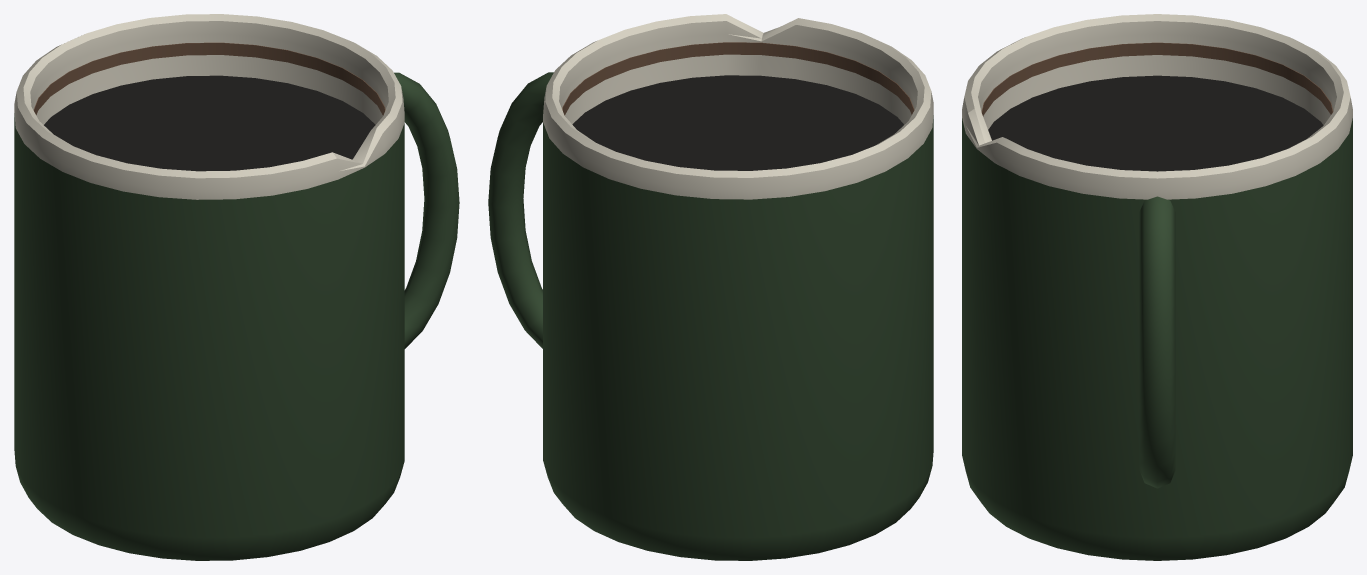
The model's file is coffee-mug-green-f0d7c5fa6e44.glb.
The picture shows the model from 3 angles, left to right: view 1: azimuth 30°, elevation 25°; view 2: azimuth 150°, elevation 25°; view 3: azimuth 270°, elevation 25°; orthographic projection.
Visible parts, largest first — view 1: enamel-green, enamel, enamel-black, wood; view 2: enamel-green, enamel, enamel-black, wood; view 3: enamel-green, enamel, enamel-black, wood.
Part boxes in pixels (bbox=[...]): enamel-green: bbox=[14, 72, 459, 560]; enamel: bbox=[14, 14, 404, 199]; enamel-black: bbox=[44, 75, 375, 171]; wood: bbox=[33, 42, 385, 115]; enamel-green: bbox=[488, 72, 933, 560]; enamel: bbox=[543, 14, 933, 199]; enamel-black: bbox=[572, 75, 903, 170]; wood: bbox=[562, 42, 914, 115]; enamel-green: bbox=[962, 118, 1352, 560]; enamel: bbox=[962, 14, 1352, 199]; enamel-black: bbox=[988, 75, 1323, 171]; wood: bbox=[981, 42, 1333, 116].
Size of the model in its own units: 0.106 by 0.096 by 0.086.
